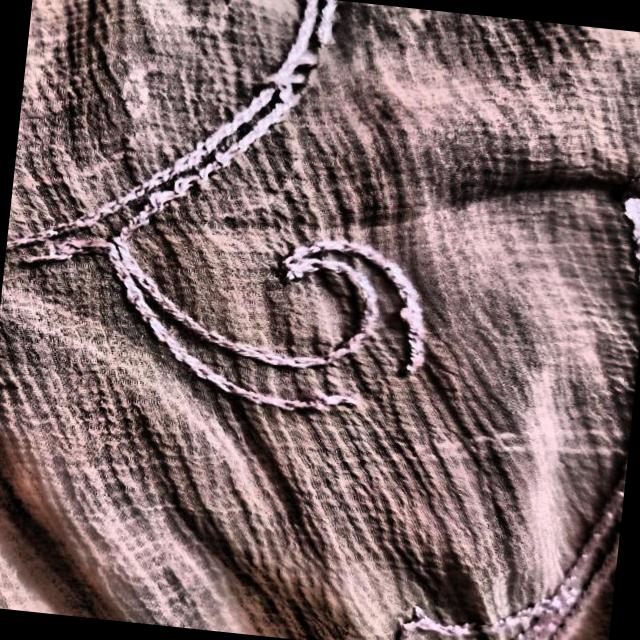gray stitch: (290, 333, 472, 446)
